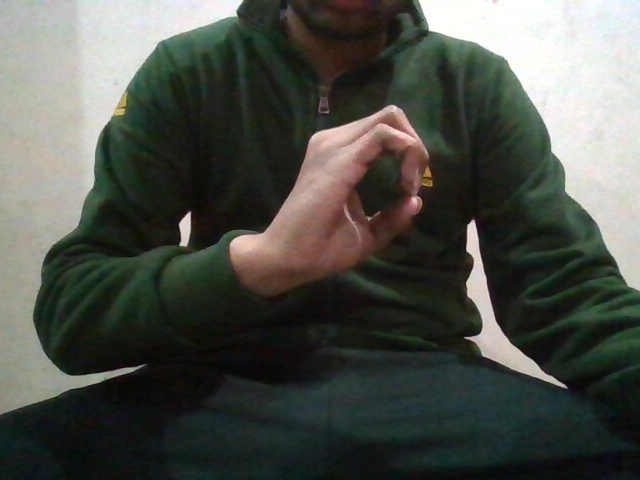O: (282, 106, 435, 276)
